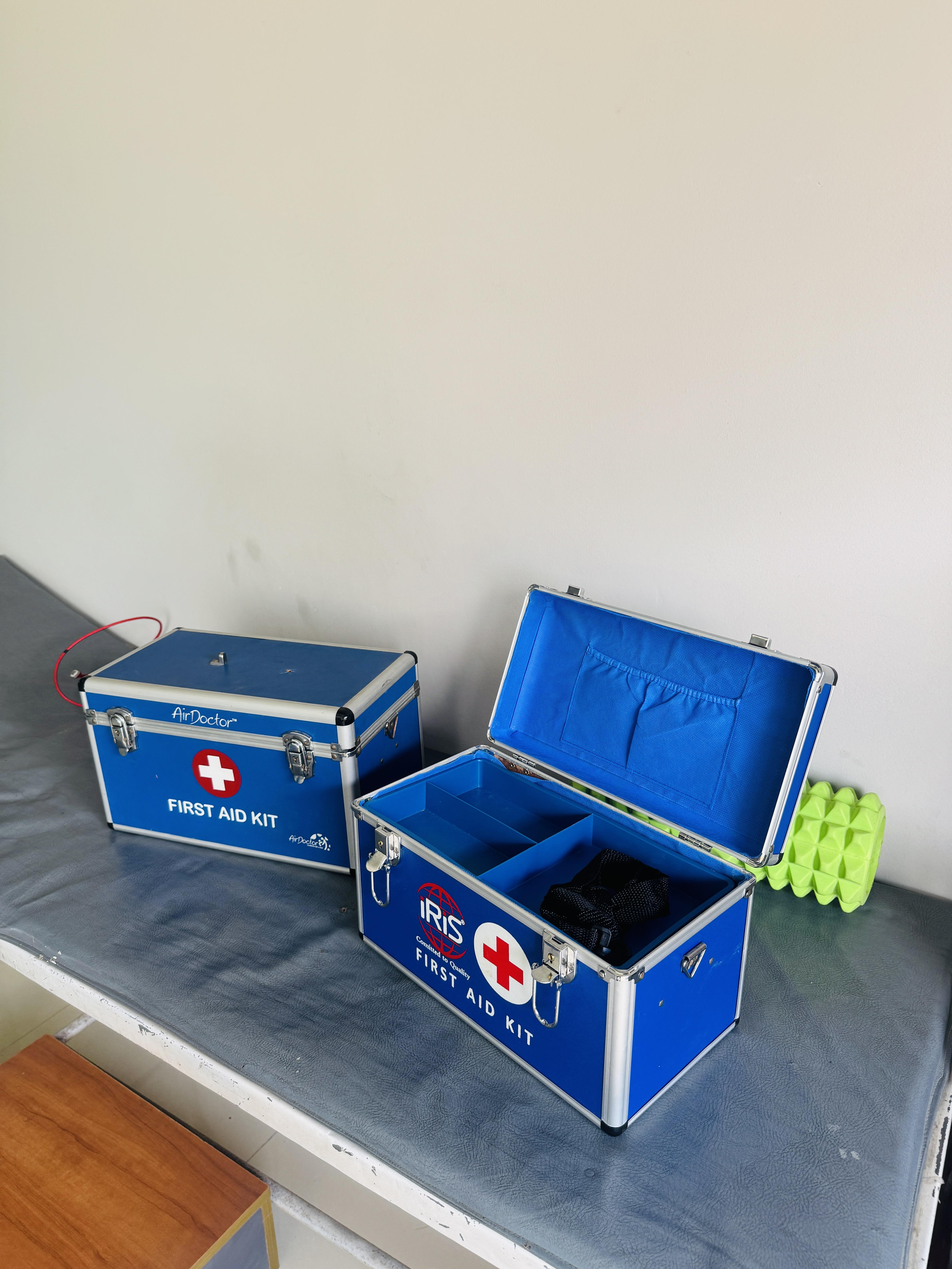FirstAidBox: (56, 561, 847, 1150)
